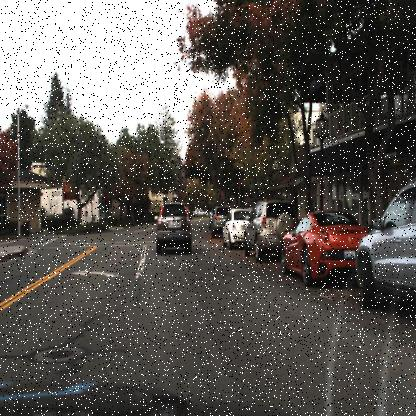car: (354, 178, 416, 312), (278, 208, 370, 288), (243, 197, 294, 262), (154, 193, 196, 257), (221, 203, 252, 247), (208, 202, 232, 240)
